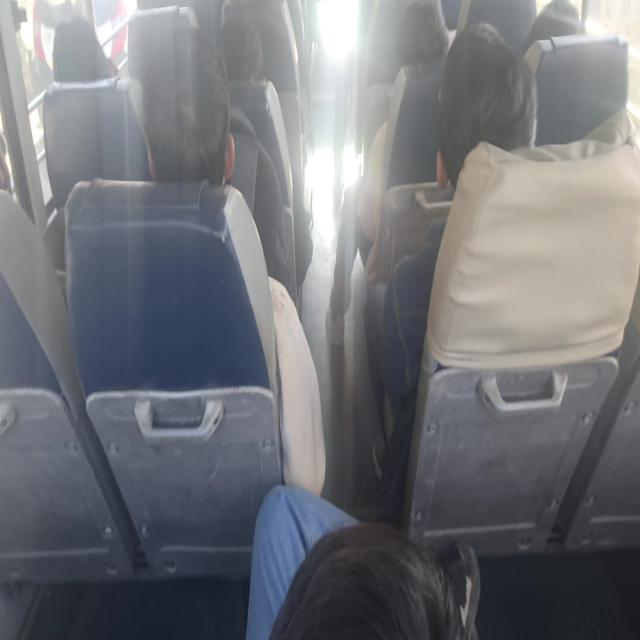person: (265, 510, 480, 640), (438, 29, 528, 182), (147, 53, 230, 178), (209, 12, 268, 83), (395, 0, 453, 68), (50, 18, 105, 79), (529, 0, 592, 44)
